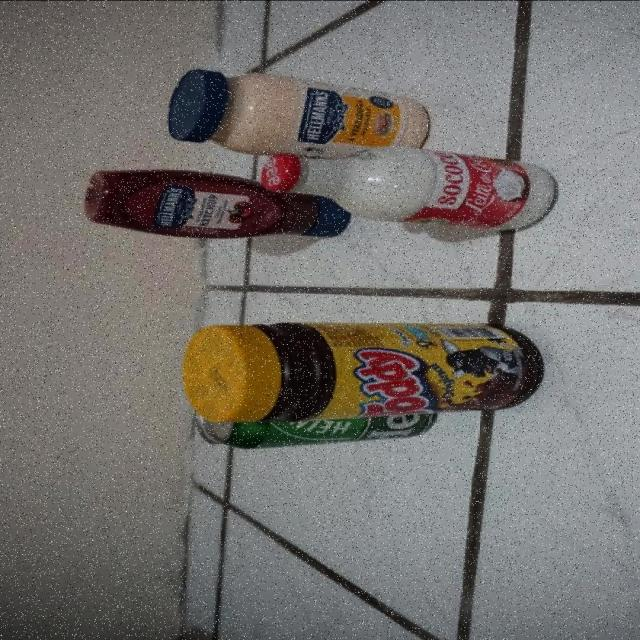BeerCan: (197, 416, 430, 453)
ChocolatePowder: (188, 321, 520, 416)
CoconutMilk: (262, 148, 562, 221)
Ketchup: (76, 169, 258, 239)
Mayonnaise: (160, 72, 428, 147)
